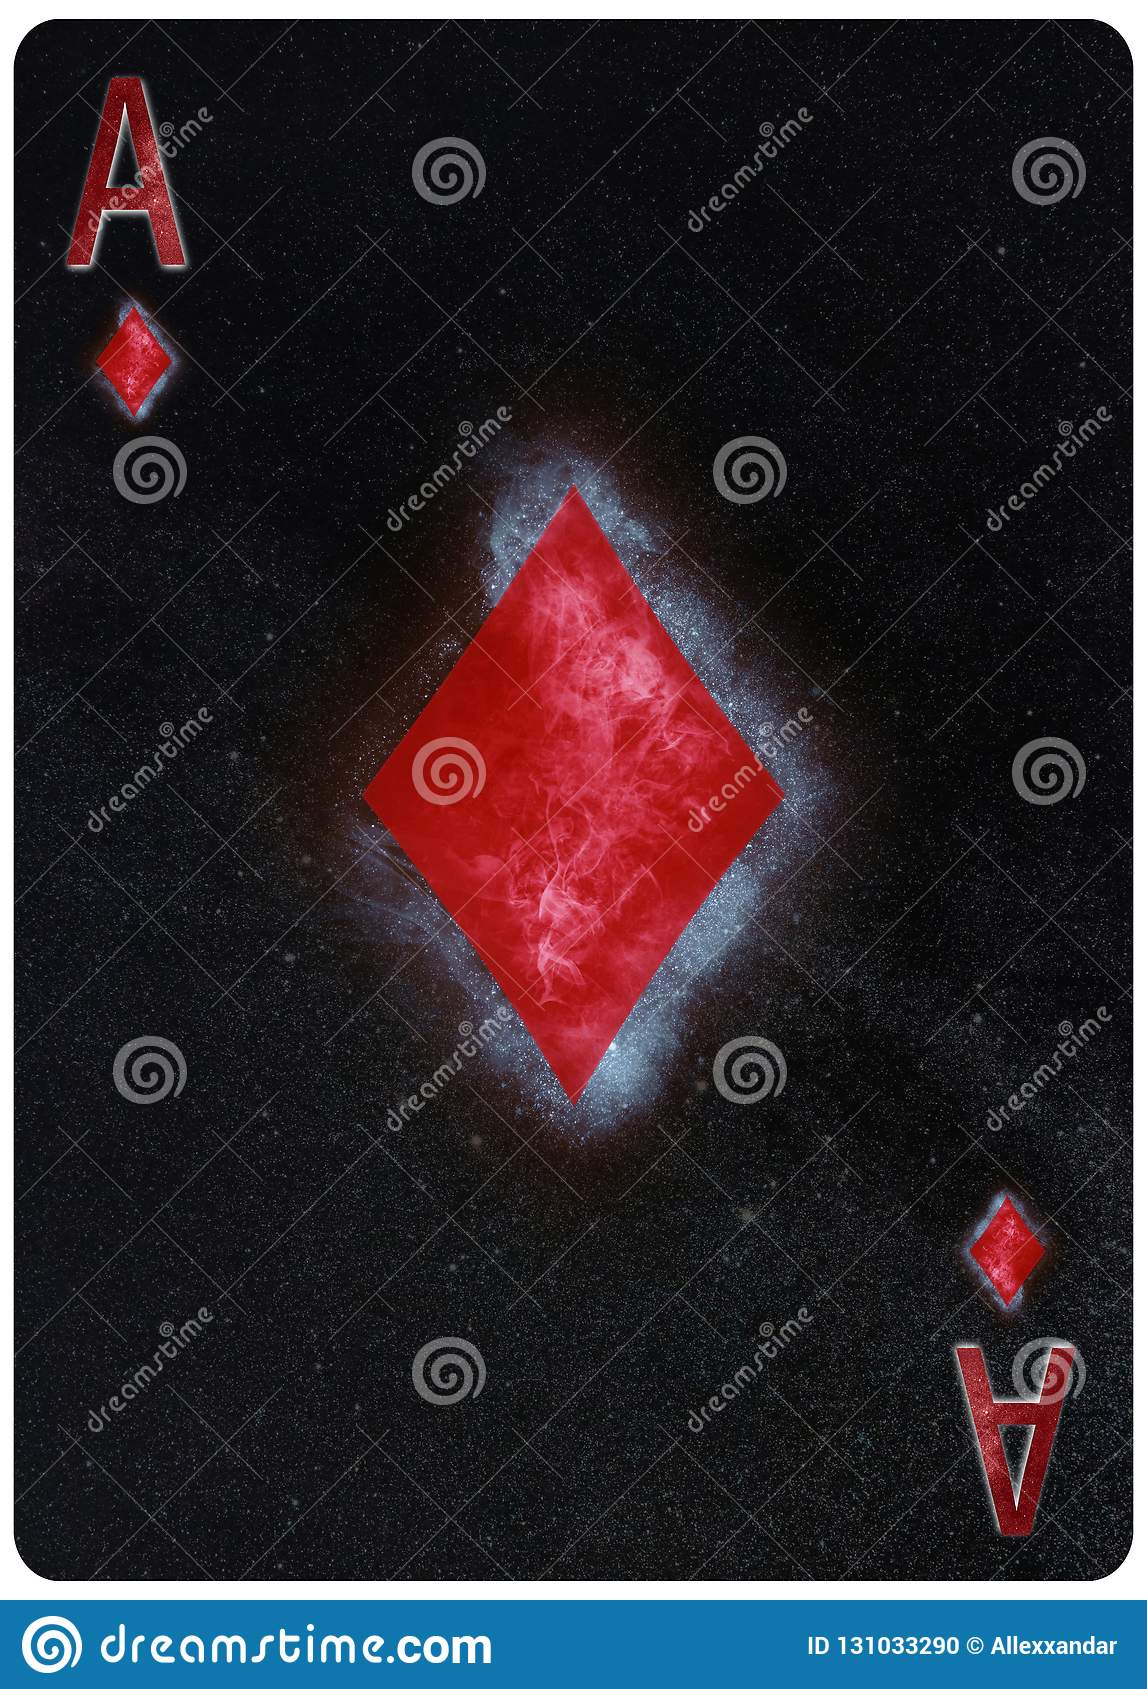ace of diamonds: (21, 17, 1119, 1568)
